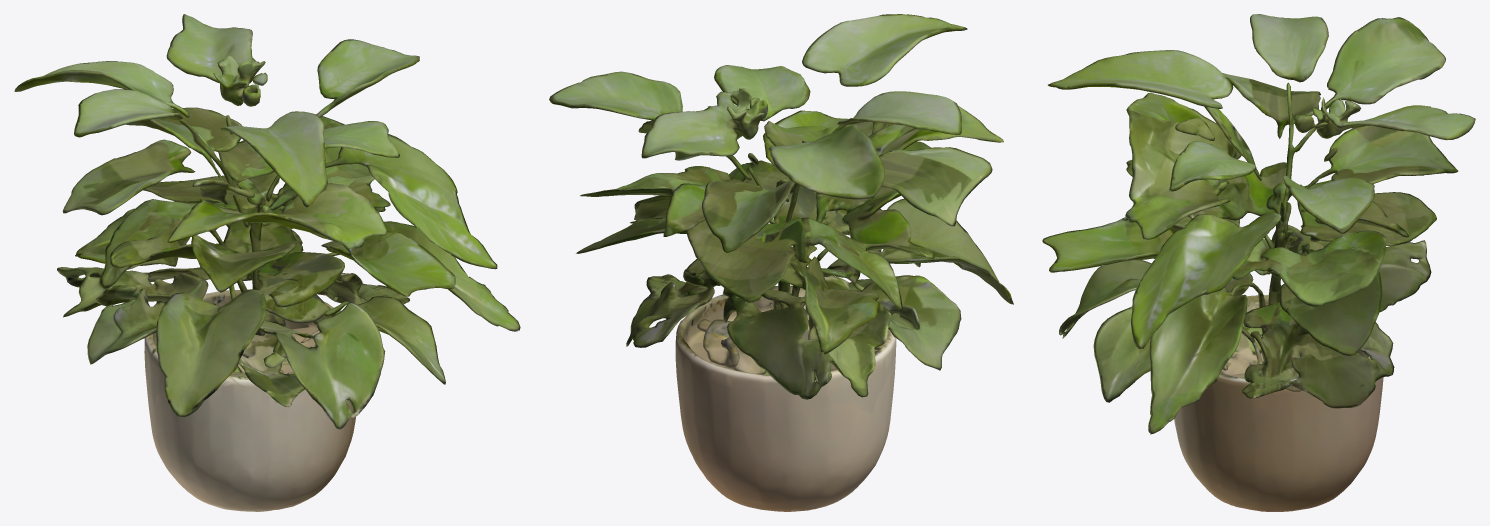
Rendered from tree0042_dup.gltf.
3 views of the same model, side by side, from view 1: azimuth 30°, elevation 25°; view 2: azimuth 150°, elevation 25°; view 3: azimuth 270°, elevation 25° (orthographic). The views are drawn at different scales.
Visible parts, largest first — view 1: Mesh_0.050; view 2: Mesh_0.050; view 3: Mesh_0.050.
Boxes of the visible parts, x1,y1,x2,y2 form: Mesh_0.050: (14, 14, 520, 511); Mesh_0.050: (549, 14, 1013, 511); Mesh_0.050: (1042, 14, 1475, 511).
Size of the model in its own units: 1.95 by 2 by 1.94.
Materials: 1 (1 with a texture image).
